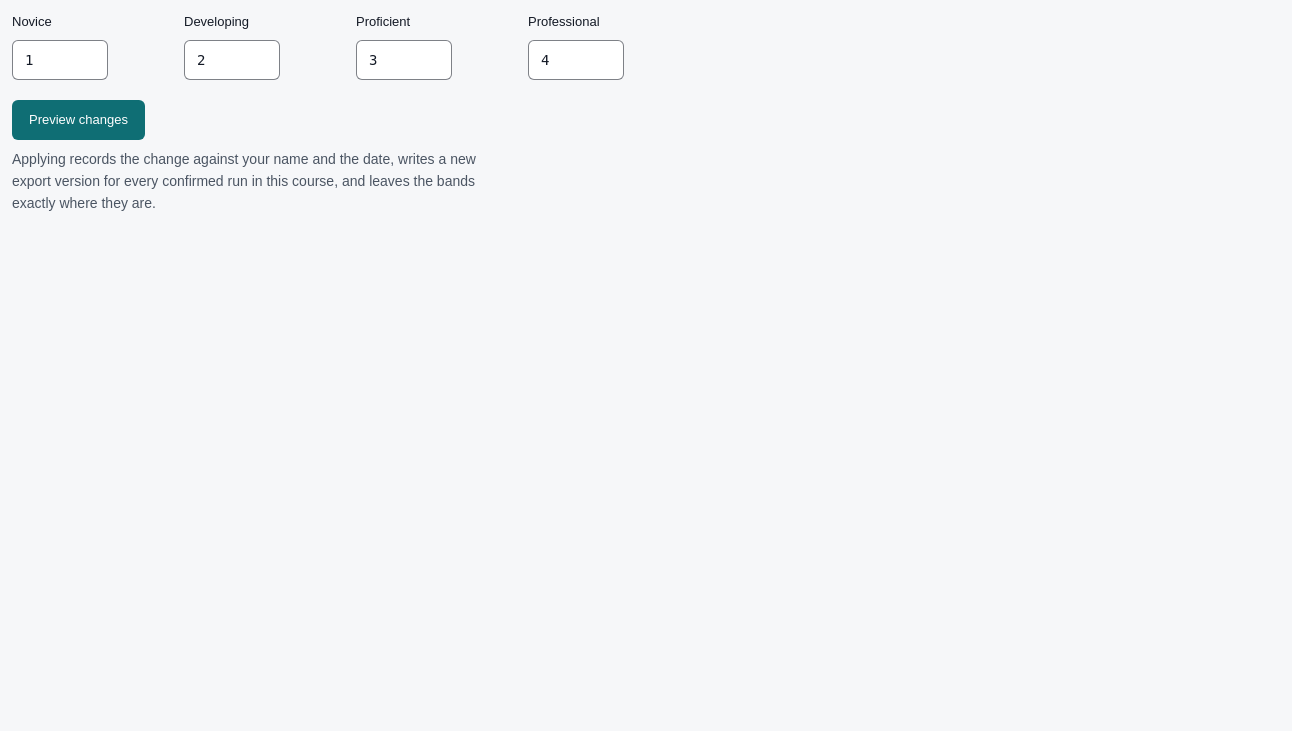
Test: MappingEditor (UI-030 → Mapping) › says the apply did not happen when the request never reaches the action
Replace the text in the field labelled "Novice" with "1.5": (60, 60) top-left (12, 40), bottom-right (108, 80)
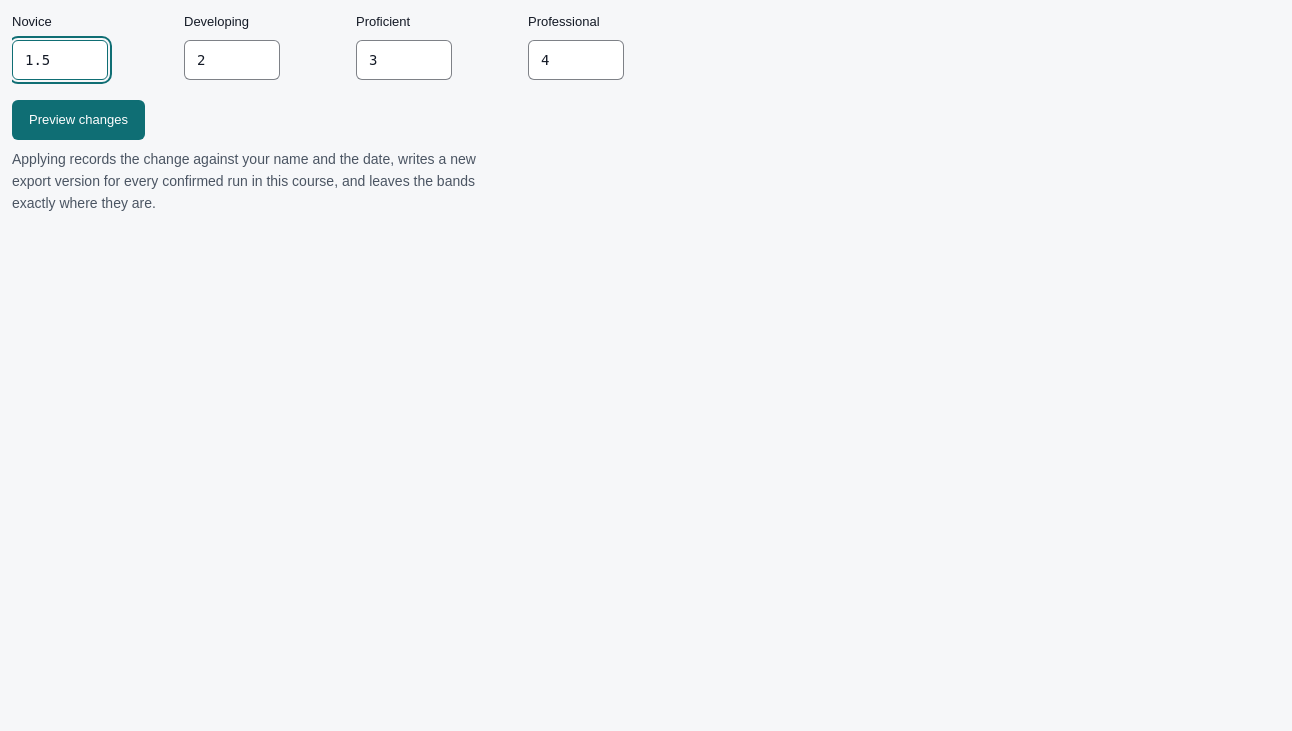
Click the button "Preview changes": (78, 120) top-left (12, 100), bottom-right (145, 140)
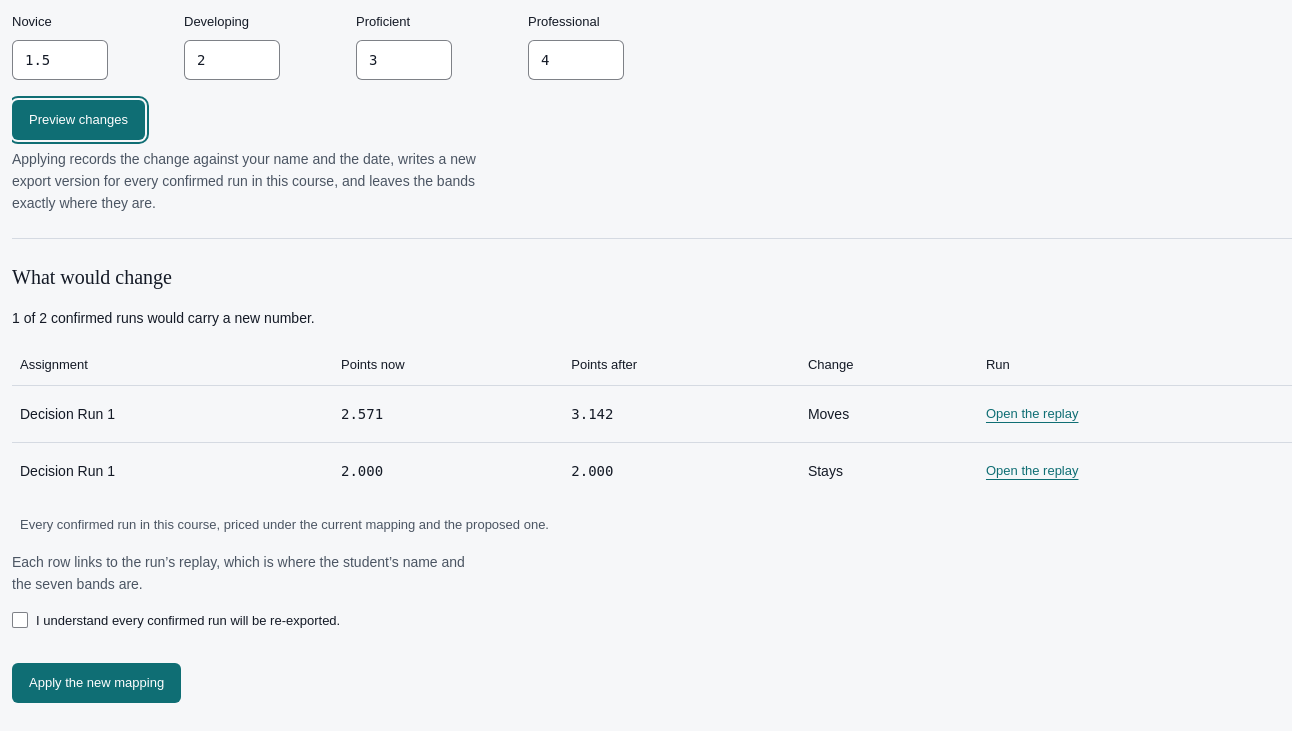
expect the heading "What would change" is shown: met, box top-left (12, 266), bottom-right (172, 288)
Click the checkbox named "I understand every confirmed run will be re-exported.": (20, 620) top-left (12, 612), bottom-right (28, 628)
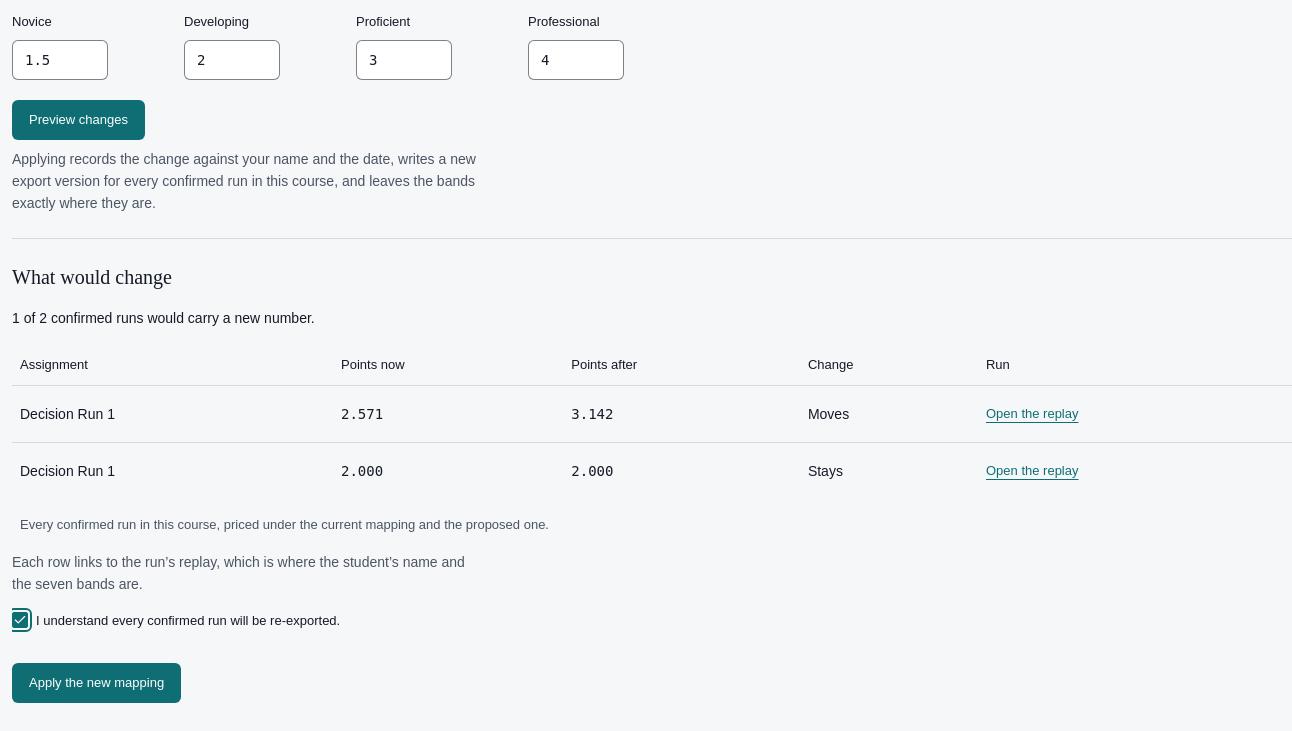
Click the button "Apply the new mapping": (97, 682) top-left (12, 662), bottom-right (181, 702)
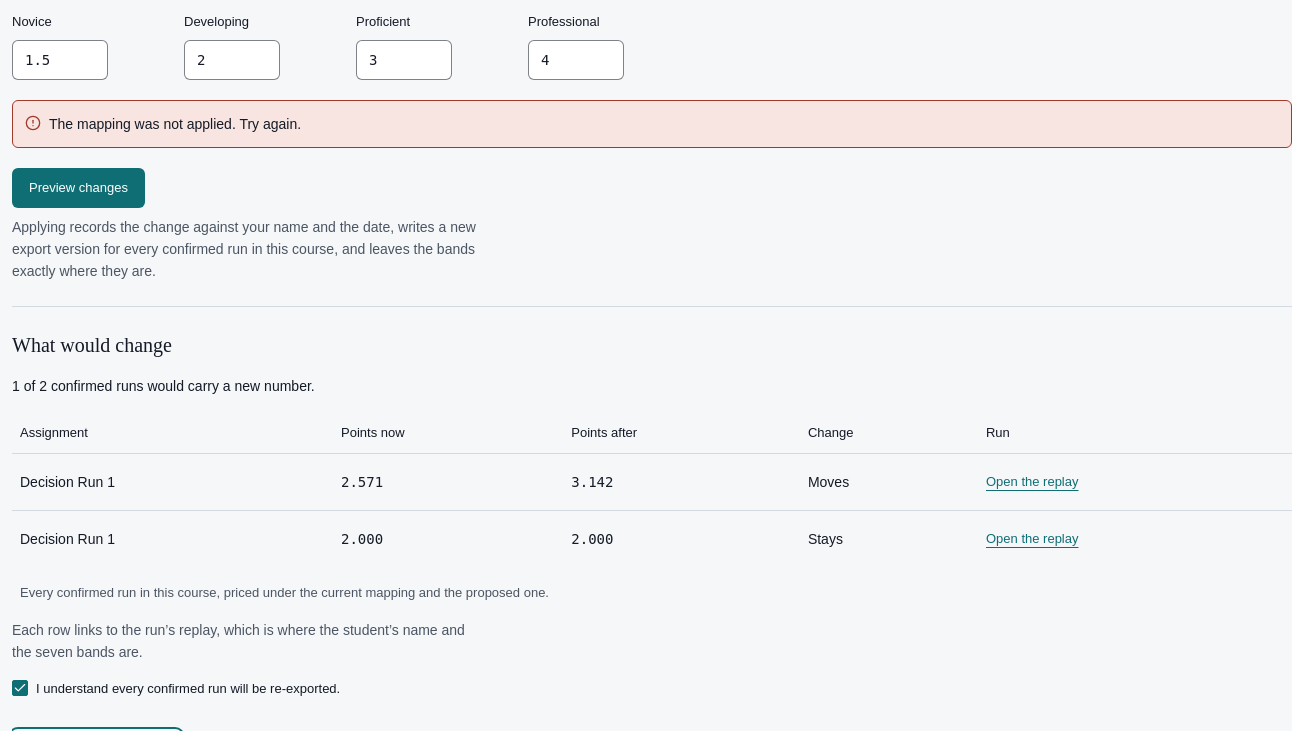
expect the message does not show "Applying records the change against your name and the date, writes a new export version for every confirmed run in this course, and leaves the bands exactly whe": met, box top-left (12, 100), bottom-right (1291, 148)
expect the message reads "The mapping was not applied. Try again.": met, box top-left (49, 116), bottom-right (301, 132)
